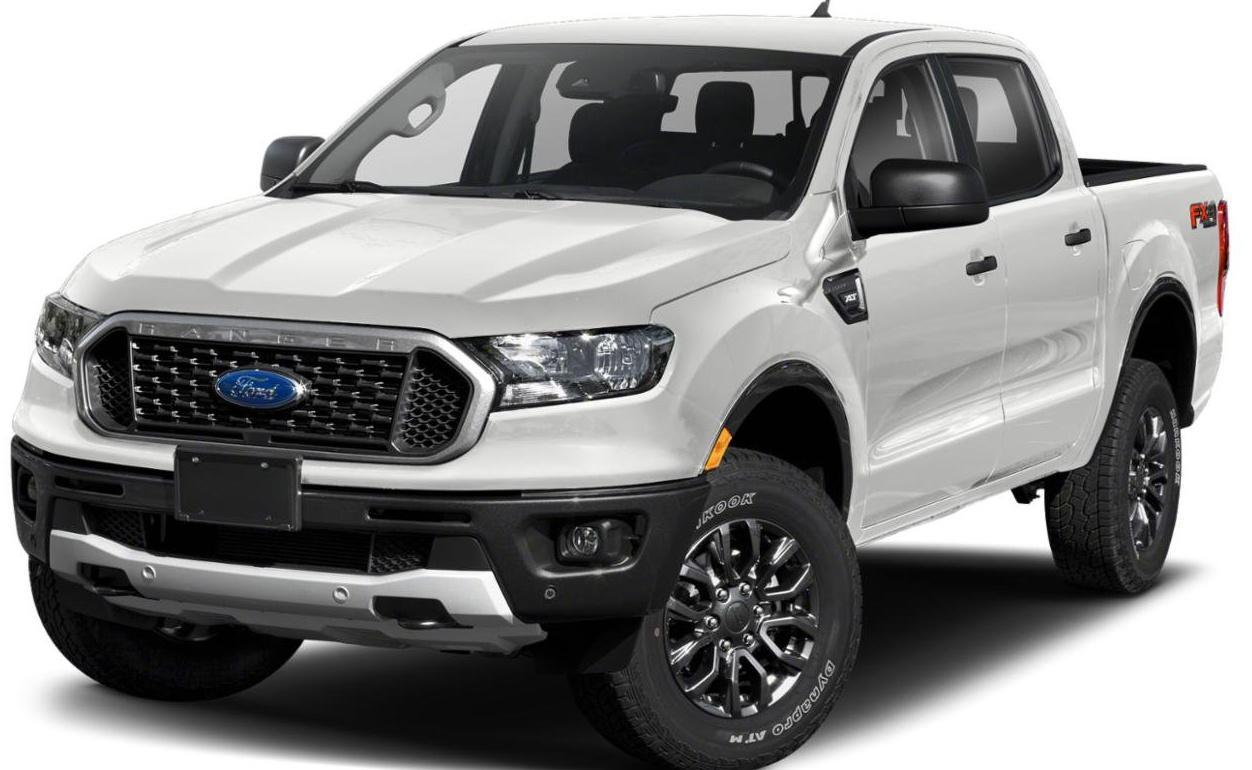Trucks: (11, 21, 1231, 766)
